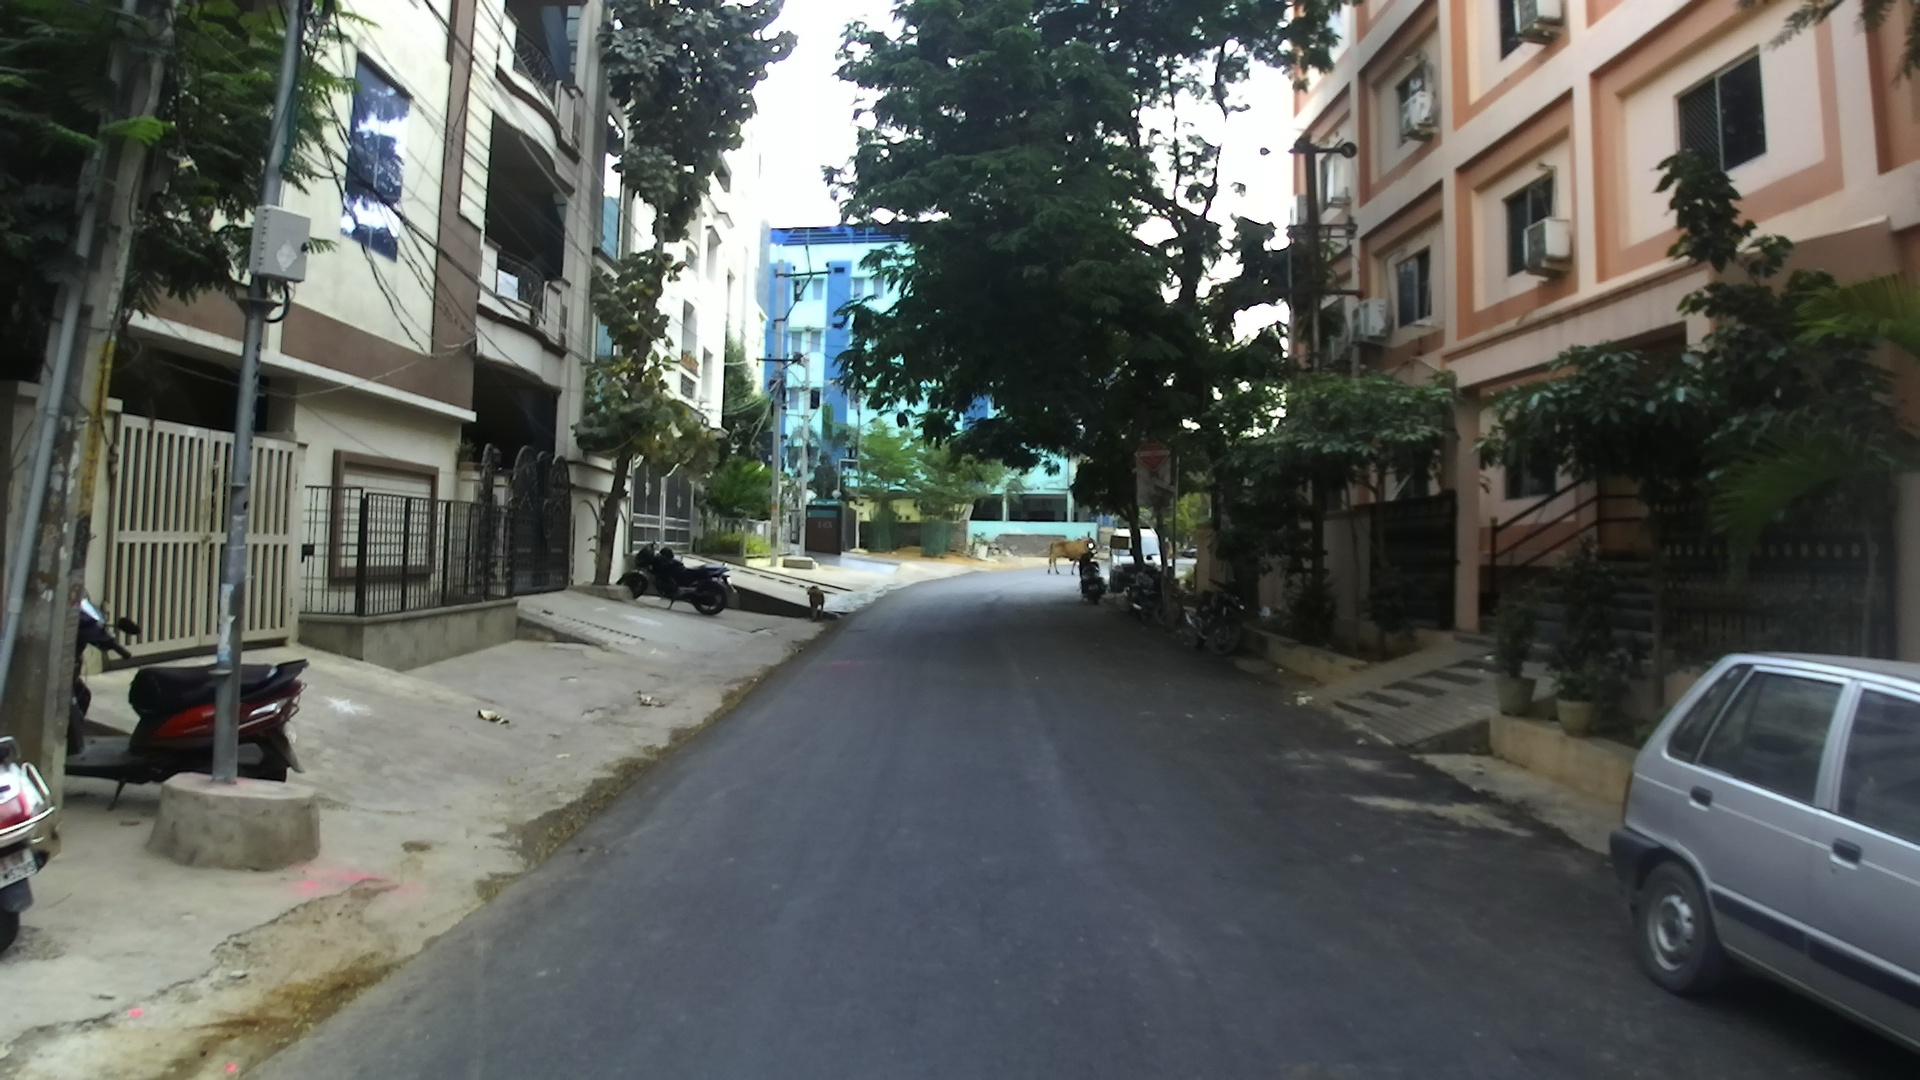vehicle: (1607, 647, 1919, 1058), (0, 731, 61, 960), (618, 549, 731, 616)
